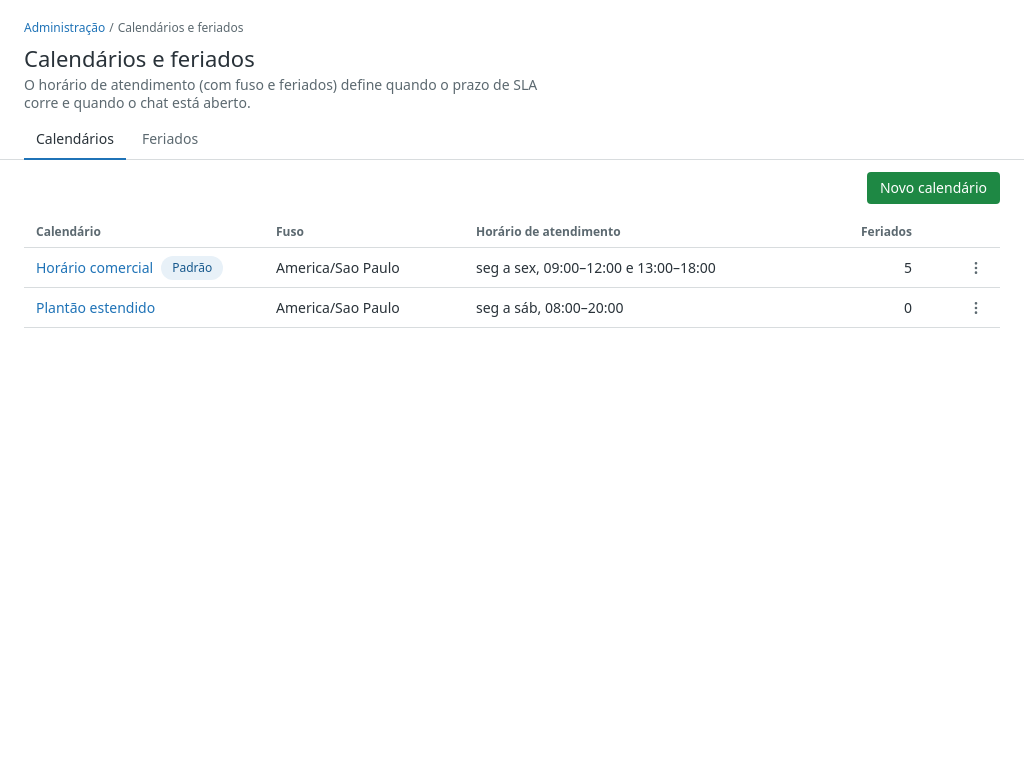
Test case: Calendários e feriados › lista, abre o editor visual e bloqueia faixa invertida
Check: the row "Horário comercial" shows "seg a sex, 09:00–12:00 e 13:00–18:00", box [476, 258, 716, 276]
Click the button "Horário comercial": (95, 268) [36, 258, 153, 276]
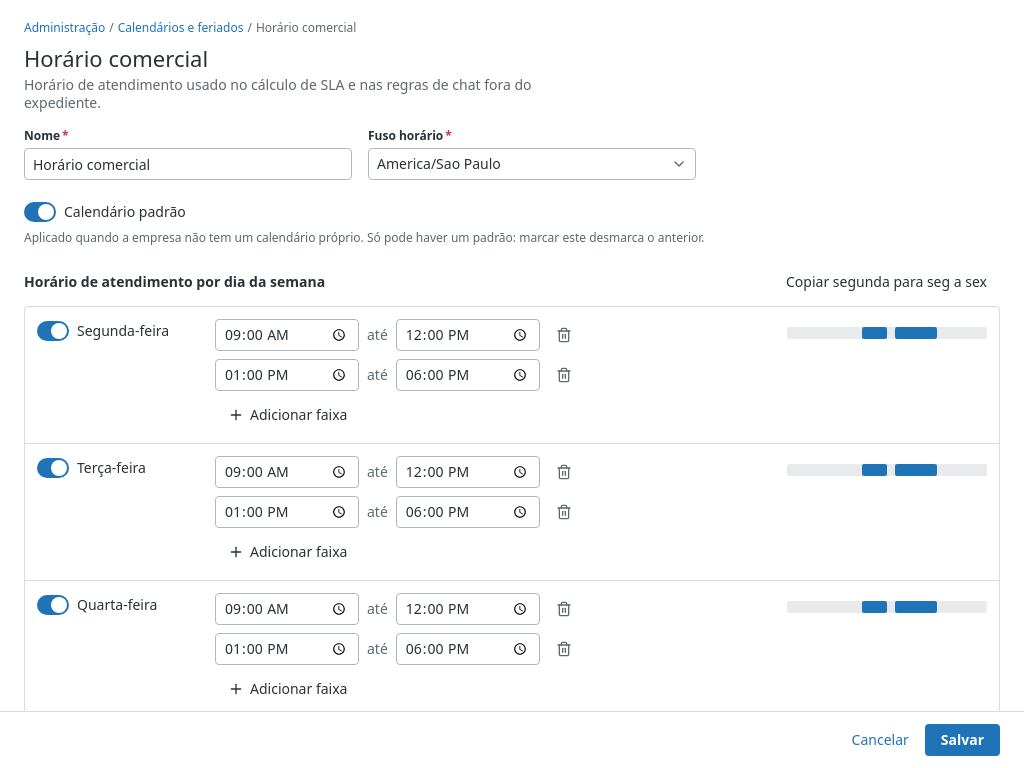
Check: the heading "Horário de atendimento por dia da semana" is shown, box [24, 273, 325, 291]
Replace the text in the time field named "Segunda-feira, faixa 1: fim" with "08:00": (468, 335) [397, 320, 539, 350]
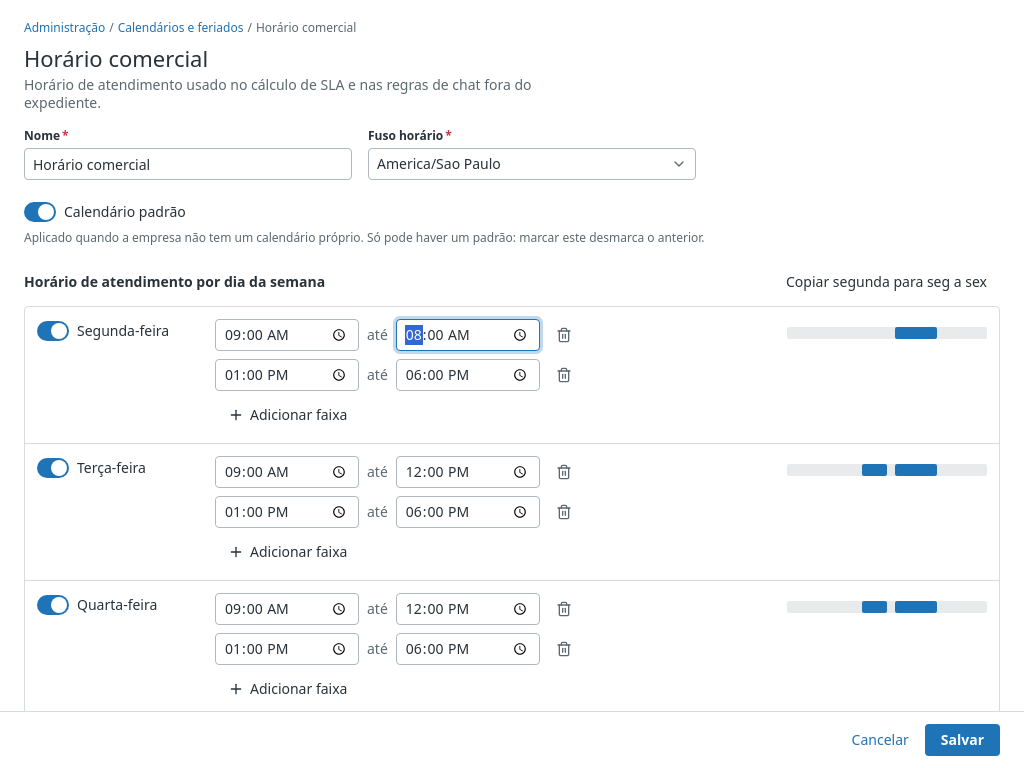
Click the button "Salvar": (962, 740) [925, 724, 1000, 756]
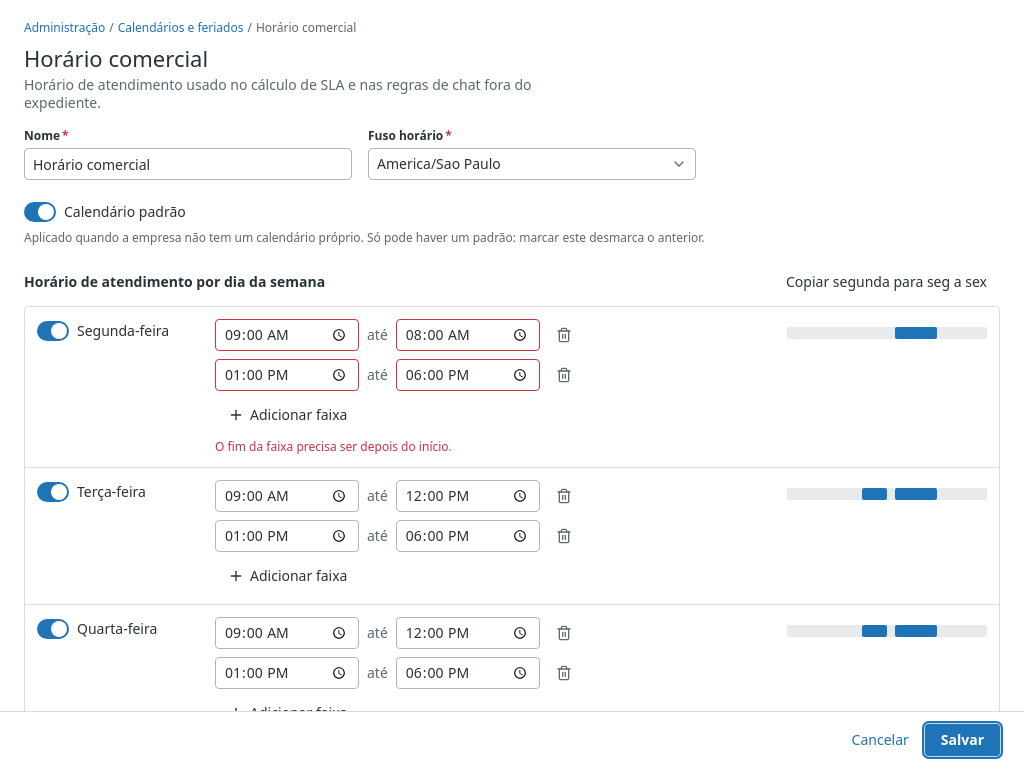
Check: the text "O fim da faixa precisa ser depois do início." is shown, box [215, 438, 452, 455]
